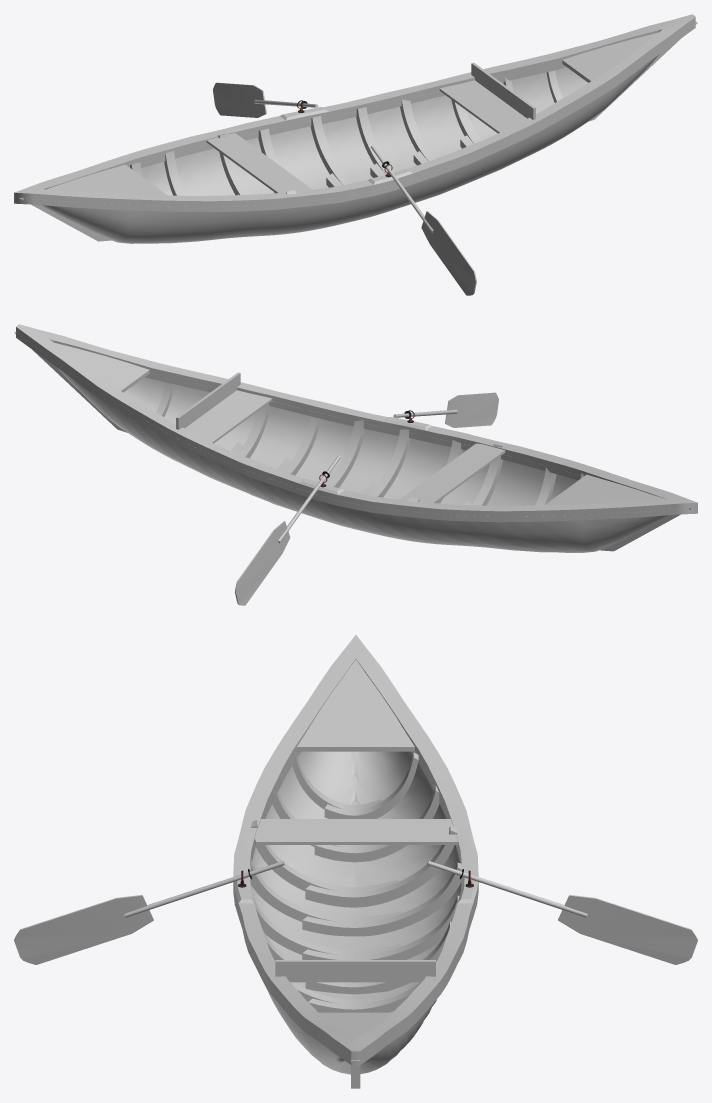
The picture shows the model from 3 angles, top to bottom: view 1: azimuth 30°, elevation 25°; view 2: azimuth 150°, elevation 25°; view 3: azimuth 270°, elevation 25°; orthographic projection. The views are drawn at different scales.
Parts seen in each view (by area): view 1: Object002; view 2: Object002; view 3: Object002.
Part boxes in pixels (x1=…): Object002: x1=14, y1=14, x2=697, y2=295; Object002: x1=14, y1=324, x2=697, y2=605; Object002: x1=14, y1=635, x2=697, y2=1088.
Bounding box in the file's own units: 138 × 20.2 × 92.18.
